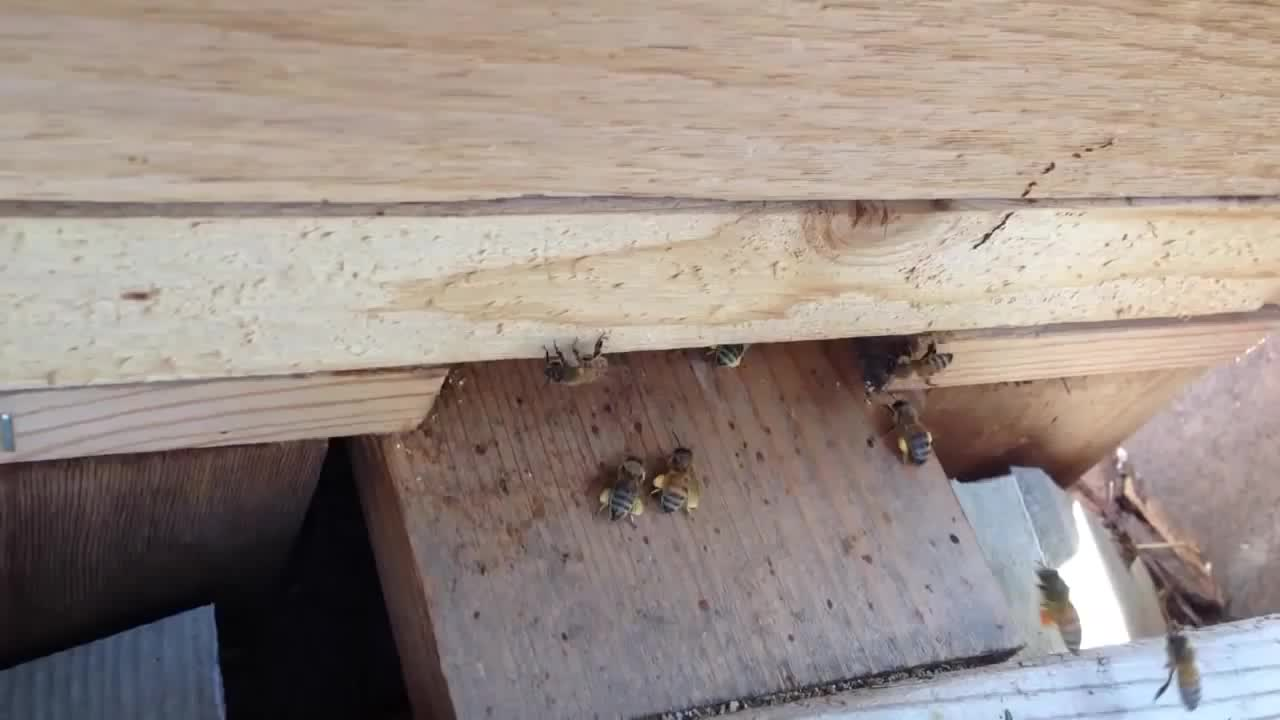pollen: (649, 440, 705, 520), (594, 454, 649, 530), (883, 401, 935, 466)
